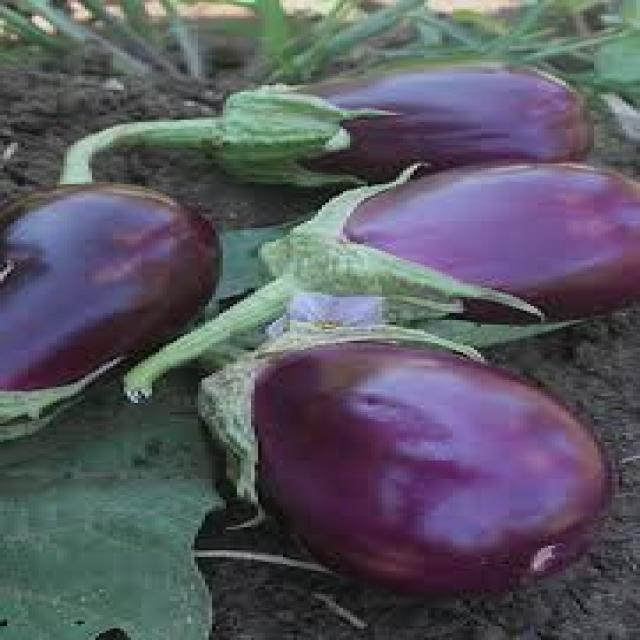eggplant: (212, 332, 605, 590), (311, 161, 637, 320), (215, 60, 590, 184)
